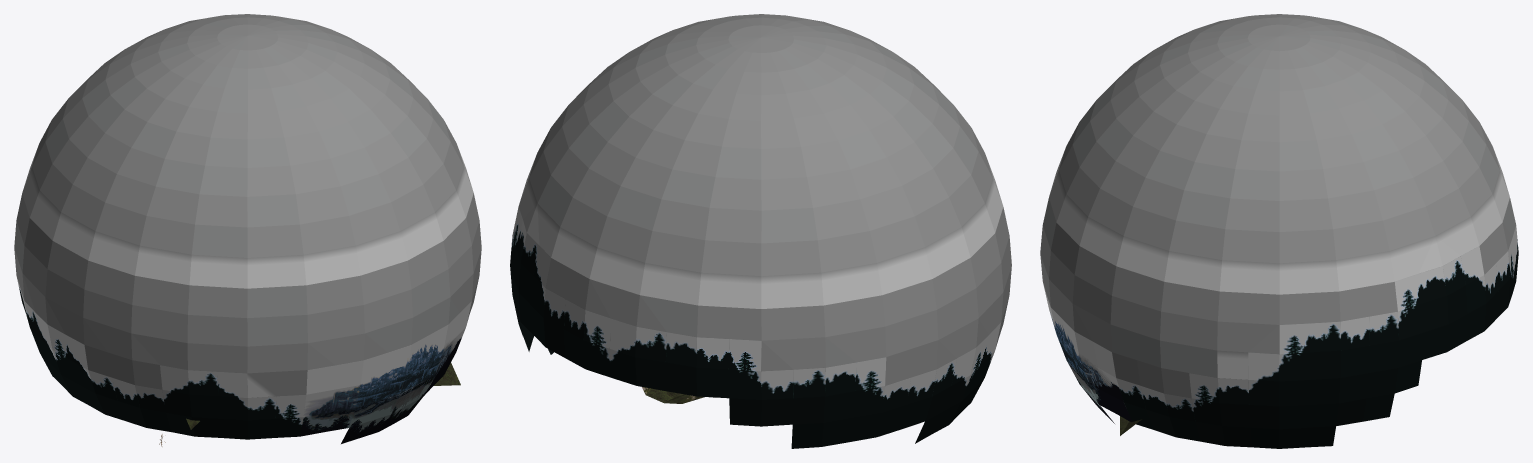
Rendered from MAP137.obj.
3 renders of one model, left to right at view 1: azimuth 30°, elevation 25°; view 2: azimuth 150°, elevation 25°; view 3: azimuth 270°, elevation 25°, orthographic. The views are drawn at different scales.
Visible parts, largest first — view 1: mesh_12, mesh_19, mesh_18, mesh_17, mesh_13, mesh_21, mesh_15, mesh_16, mesh_14; view 2: mesh_12, mesh_14; view 3: mesh_12, mesh_14, mesh_16, mesh_17, mesh_20.
Boxes of the visible parts, x1,y1,x2,y2 form: mesh_12: [14, 14, 481, 439]; mesh_19: [303, 360, 363, 416]; mesh_18: [356, 344, 411, 407]; mesh_17: [400, 324, 448, 393]; mesh_13: [341, 394, 399, 443]; mesh_21: [300, 408, 355, 436]; mesh_15: [379, 375, 434, 431]; mesh_16: [435, 301, 471, 374]; mesh_14: [17, 278, 165, 412]; mesh_12: [510, 14, 1011, 448]; mesh_14: [516, 220, 910, 412]; mesh_12: [1040, 14, 1518, 448]; mesh_14: [1140, 266, 1446, 416]; mesh_16: [1074, 332, 1123, 401]; mesh_17: [1051, 308, 1087, 381]; mesh_20: [1088, 383, 1132, 421].
Size of the model in its own units: 614 by 499 by 614.
Materials: 20 (20 with a texture image).
